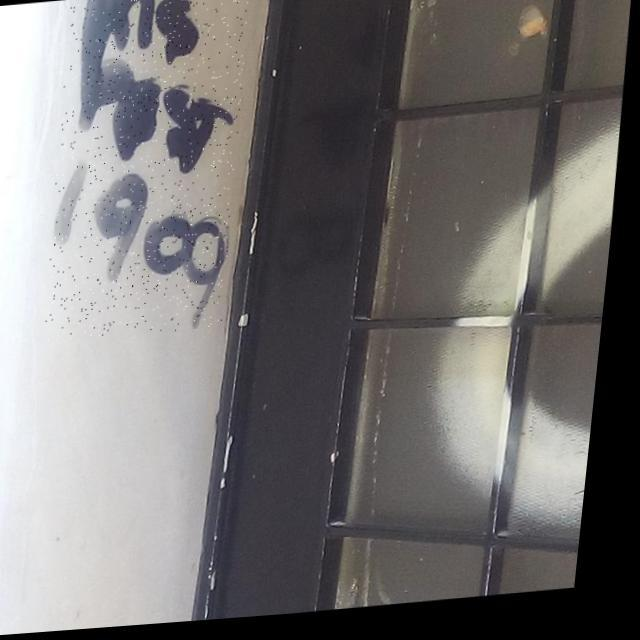-: (44, 0, 256, 344)
